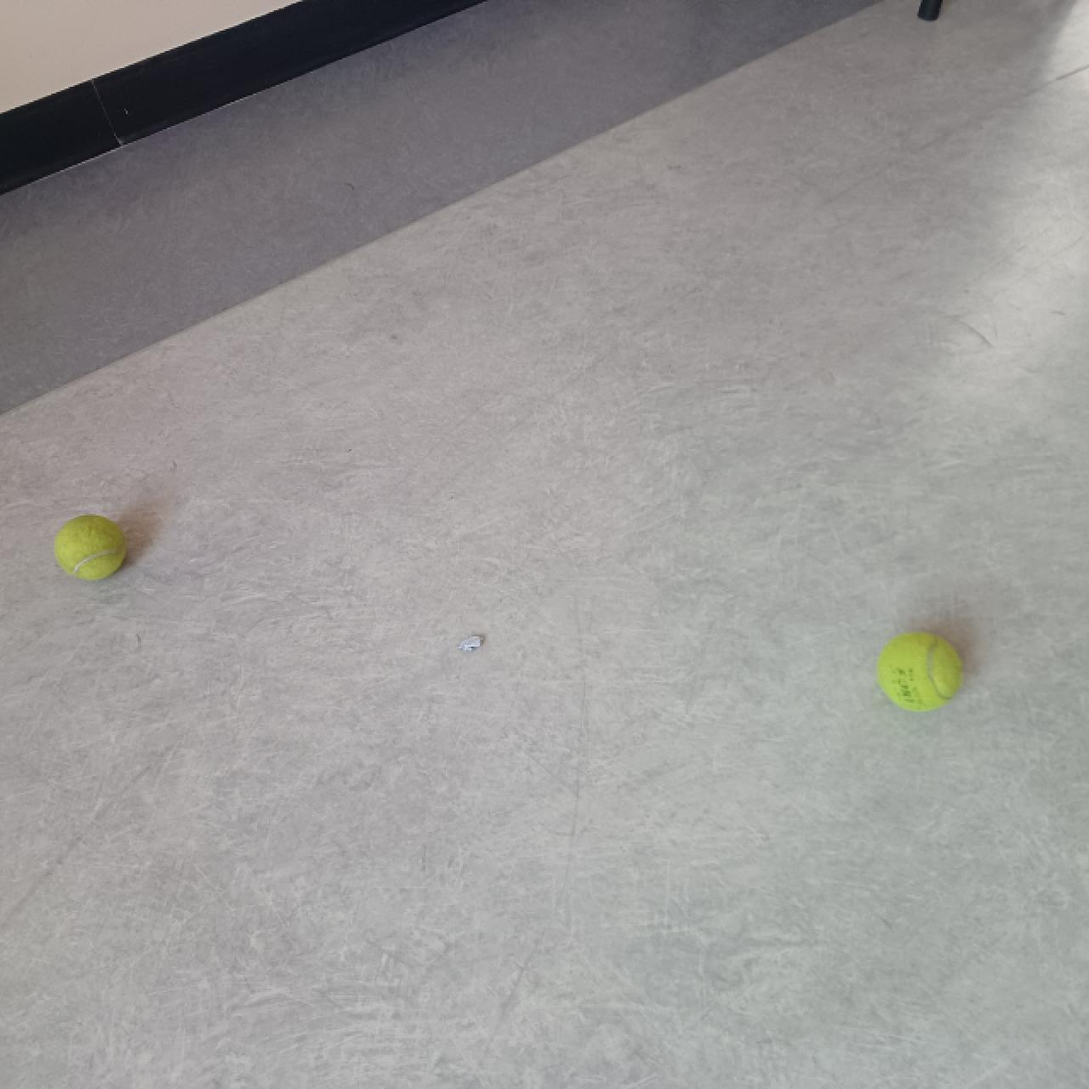tennis-ball: (875, 630, 964, 712), (53, 512, 128, 581)
